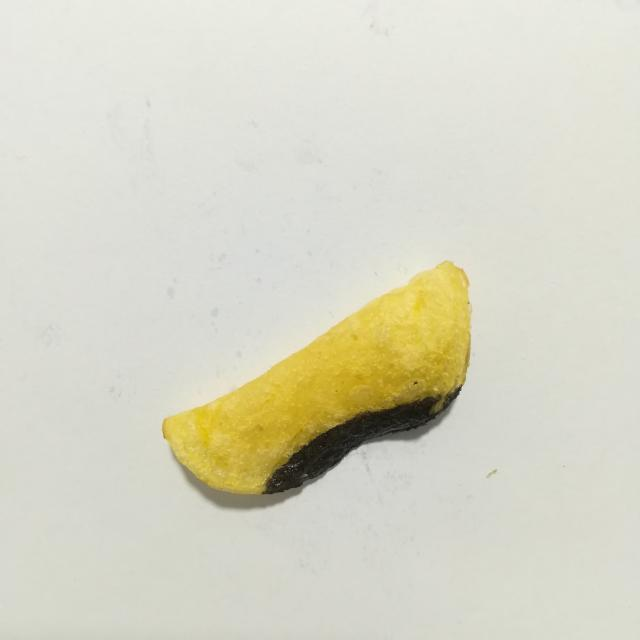chip: (162, 261, 472, 494)
damaged: (263, 385, 462, 494)
